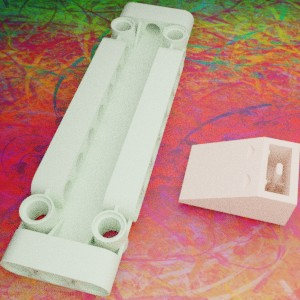15458: (0, 2, 193, 296)
3747b: (178, 137, 300, 225)
